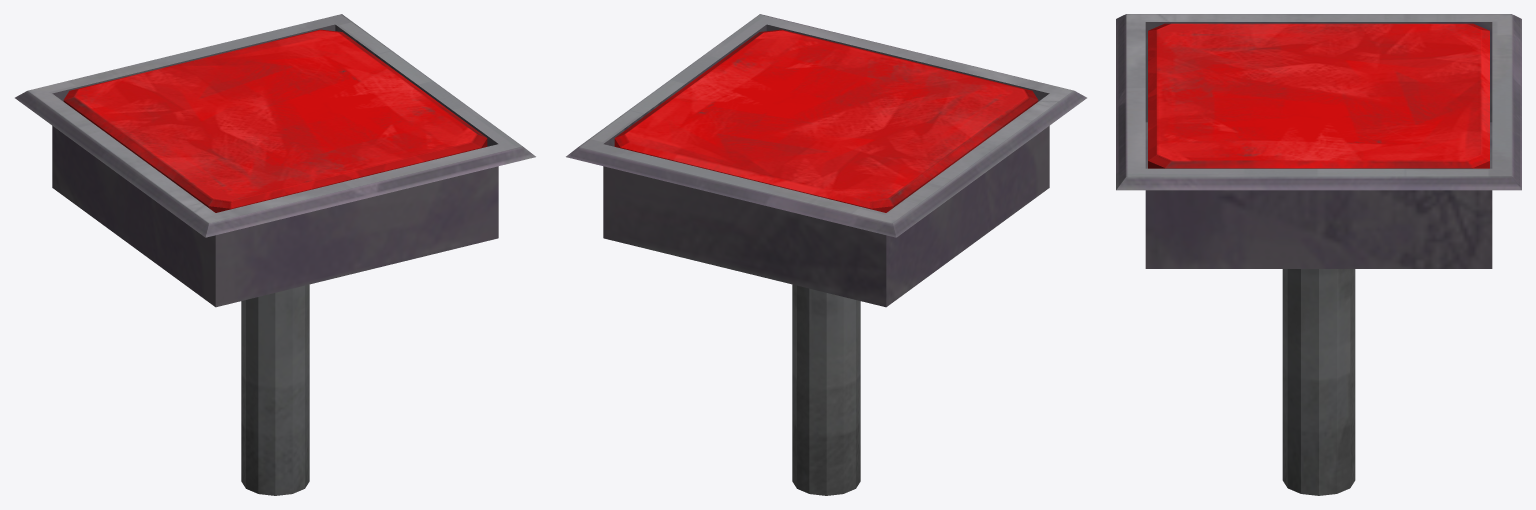
Rendered from tile_spring.fbx.
3 renders of one model, left to right at view 1: azimuth 30°, elevation 25°; view 2: azimuth 150°, elevation 25°; view 3: azimuth 270°, elevation 25°, orthographic. The views are drawn at different scales.
Visible parts, largest first — view 1: floor_tile_spring, floor_tile_spring_base; view 2: floor_tile_spring, floor_tile_spring_base; view 3: floor_tile_spring, floor_tile_spring_base.
Part boxes in pixels (left/top/right/bottom): floor_tile_spring: left=63, top=29, right=487, bottom=495; floor_tile_spring_base: left=15, top=14, right=535, bottom=307; floor_tile_spring: left=614, top=29, right=1038, bottom=495; floor_tile_spring_base: left=566, top=14, right=1086, bottom=307; floor_tile_spring: left=1148, top=23, right=1489, bottom=495; floor_tile_spring_base: left=1116, top=14, right=1521, bottom=268.
Bounding box in the file's own units: 0.02 × 0.0211 × 0.02.
